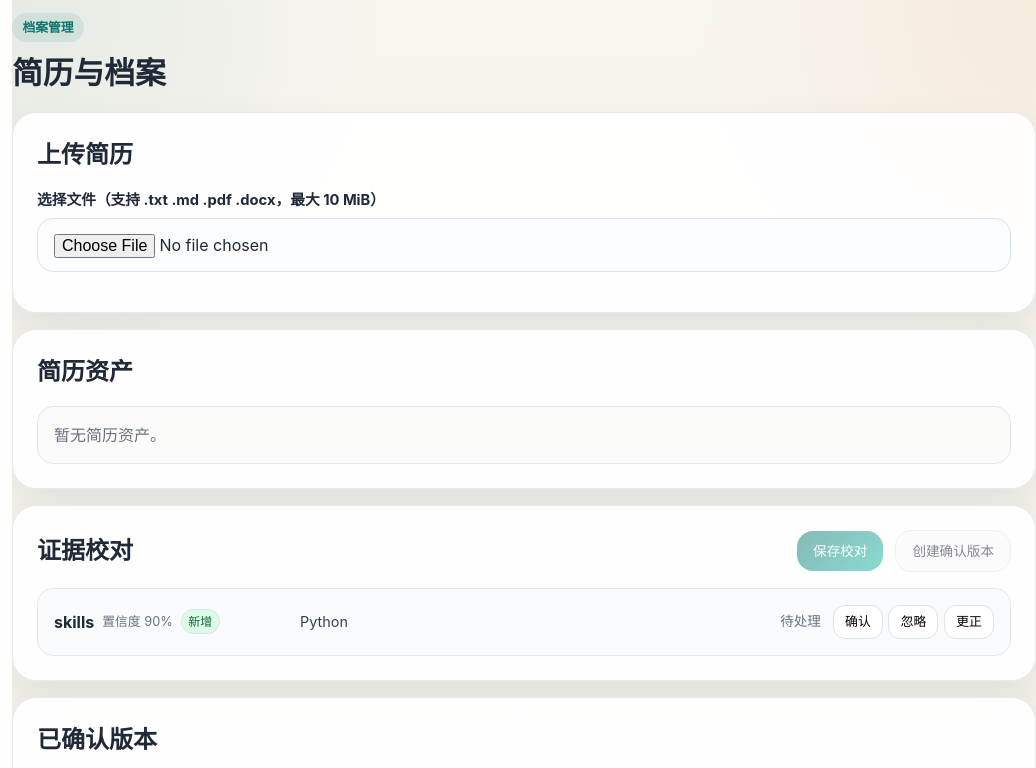
Test case: ProfileWorkspace › uses a default message when saving decisions fails without one
Click the button with test id "decision-confirm-evidence-1".
click(858, 622)  # box [833,605,883,639]
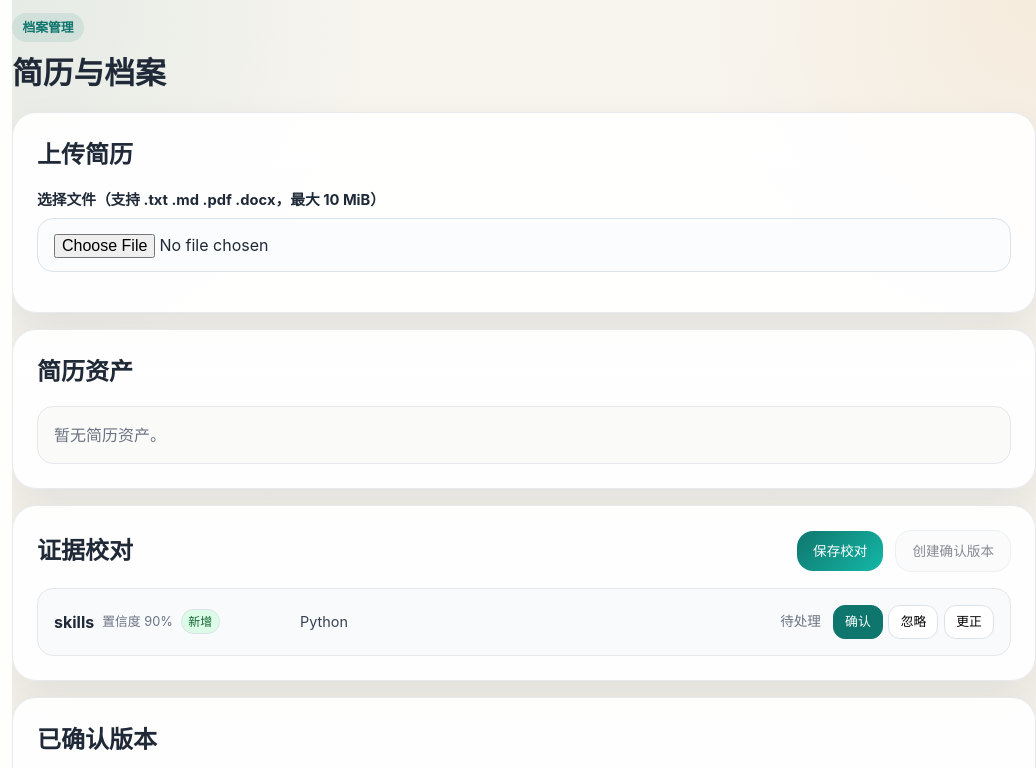
Click the button with test id "save-decisions".
click(840, 551)  # box [797,531,884,571]
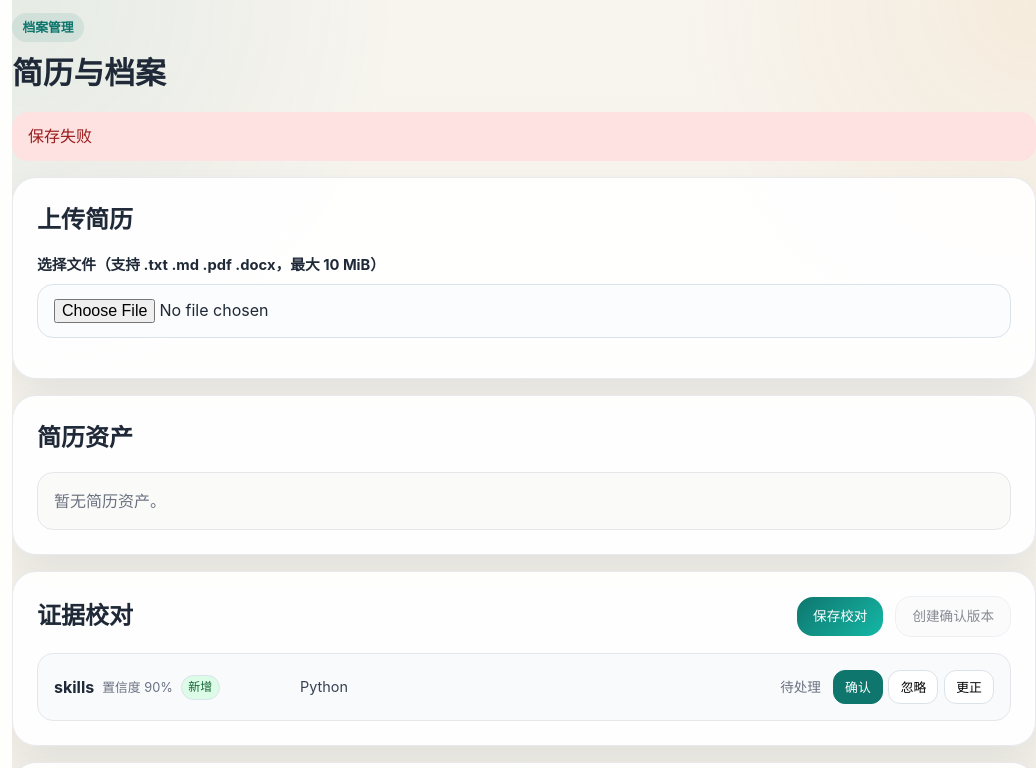
Check: the text "保存失败" is shown, box [12,112,1035,161]
